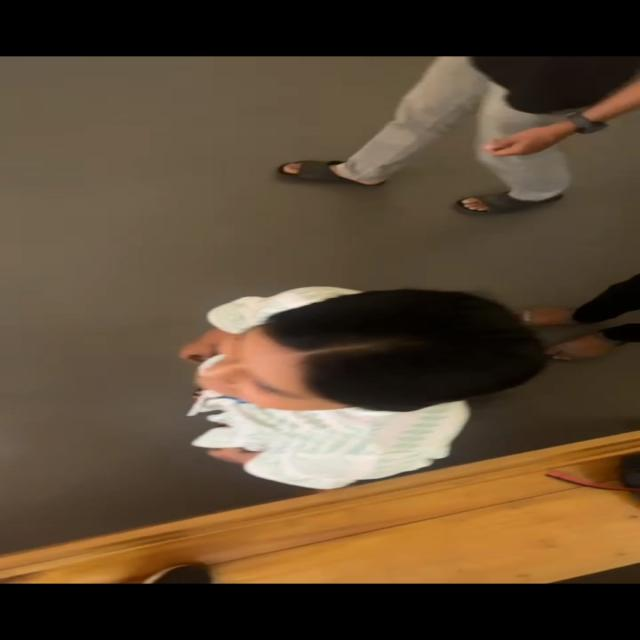humans: (164, 275, 549, 490)
